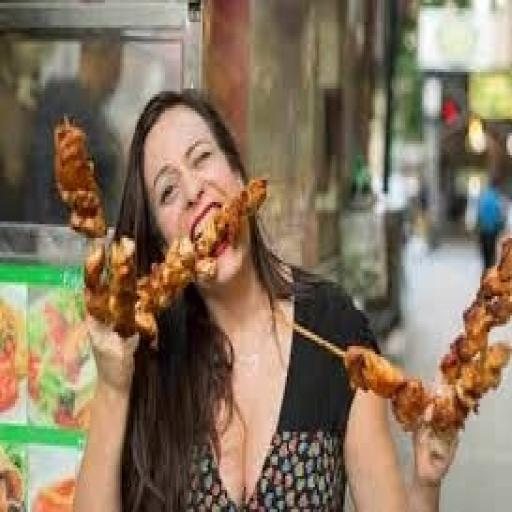eating: (70, 83, 462, 509)
